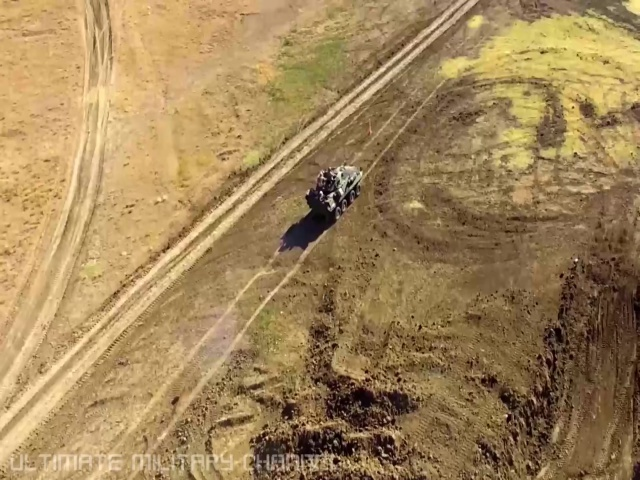vehicle: (304, 162, 363, 223)
